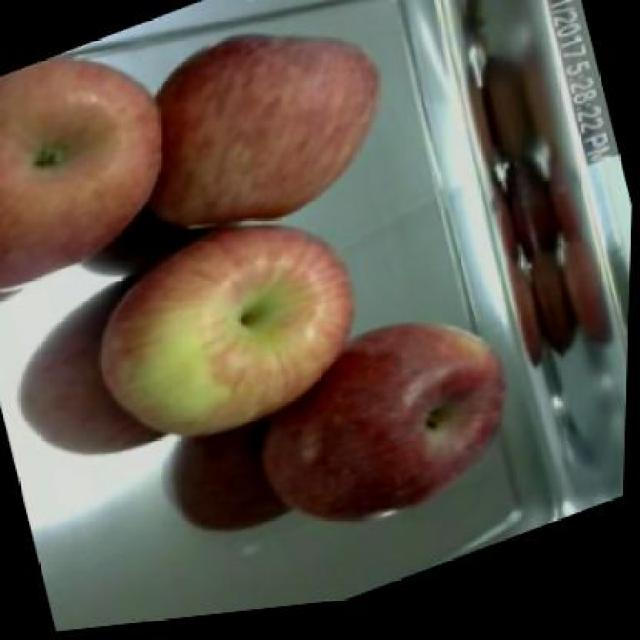Fresh Apple: (291, 315, 509, 534), (103, 242, 345, 422), (166, 38, 363, 215), (2, 69, 165, 271)
